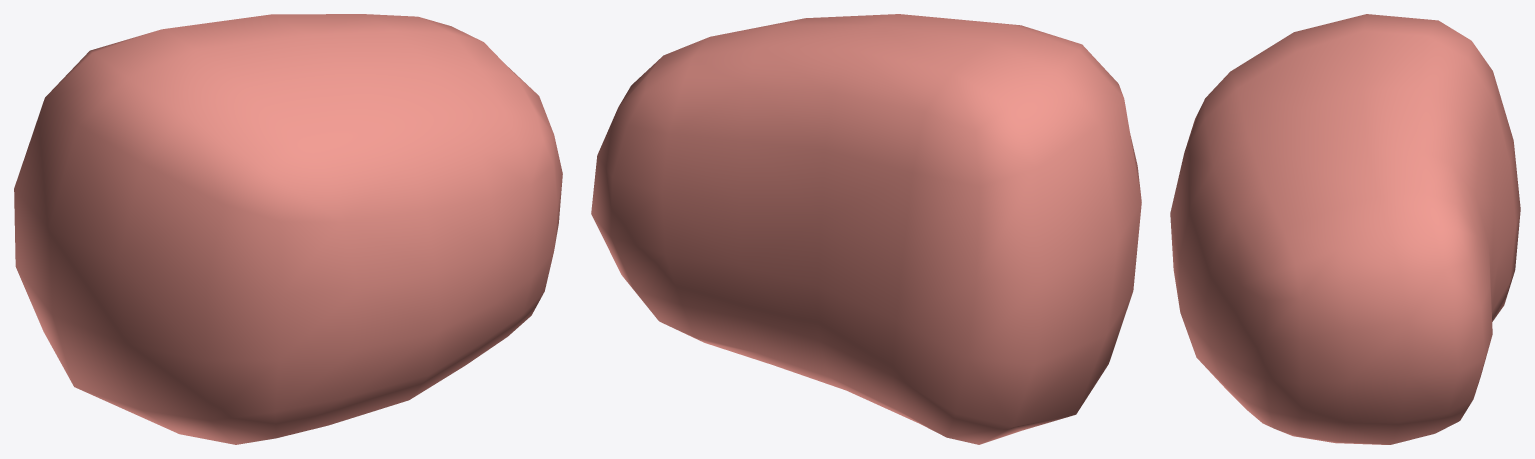
Rendered from mixamo_humanoid_surface_leftHandIndex3.fbx.
The picture shows the model from 3 angles, left to right: view 1: azimuth 30°, elevation 25°; view 2: azimuth 150°, elevation 25°; view 3: azimuth 270°, elevation 25°; orthographic projection. The views are drawn at different scales.
Parts seen in each view (by area): view 1: surface_LeftHandIndex3; view 2: surface_LeftHandIndex3; view 3: surface_LeftHandIndex3.
Boxes of the visible parts, <box> form: surface_LeftHandIndex3: <box>14,14,562,444</box>; surface_LeftHandIndex3: <box>591,14,1141,444</box>; surface_LeftHandIndex3: <box>1170,14,1520,444</box>.
Size of the model in its own units: 2.54 by 1.78 by 1.76.
